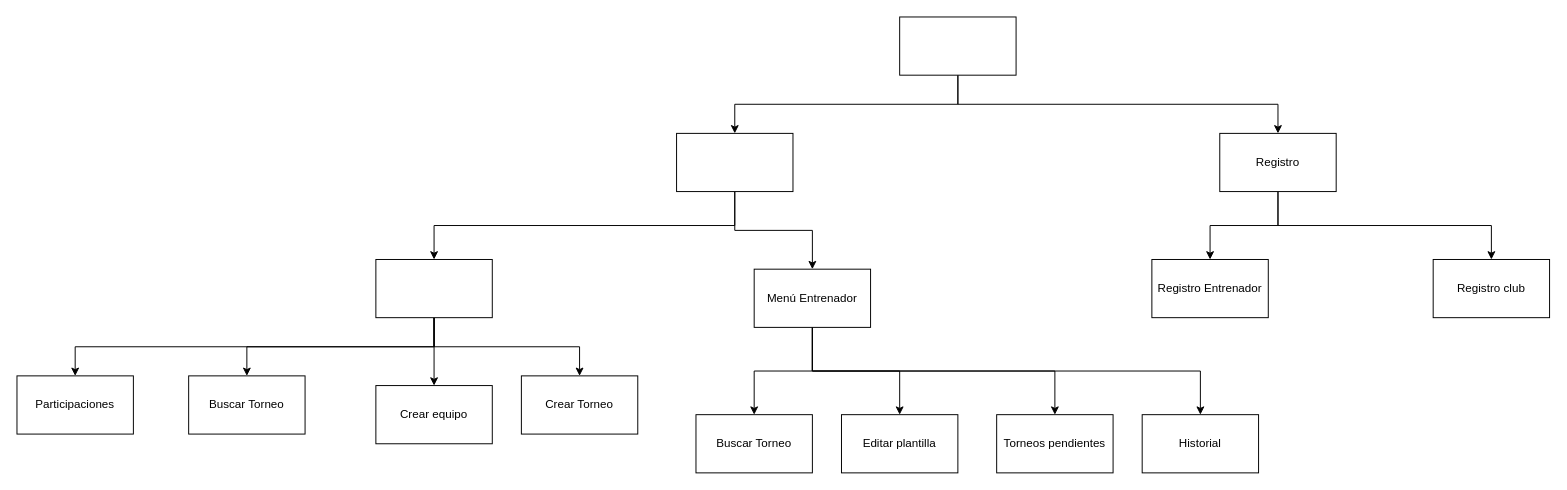
This 1567x490 diagram has some shape labels left out. Here are the shapes that lost their labels. From the top down, the centre of each, then its label:
At (957,45): "Pantalla Inicio".
At (734,162): "Login".
At (433,288): "Menú Club".
